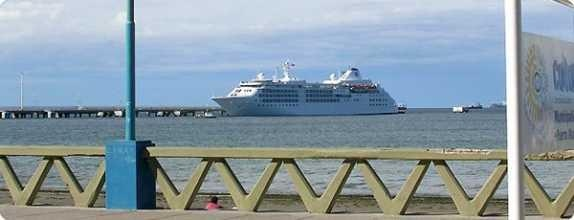youlun: (207, 60, 408, 118)
